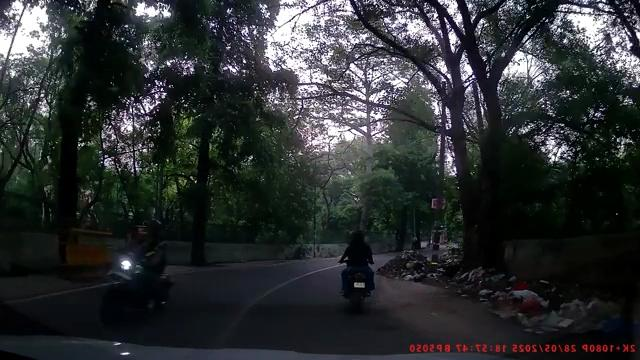motorcycle_with_helmet: (95, 216, 177, 328)
motorcycle_without_helmet: (340, 230, 377, 307)
